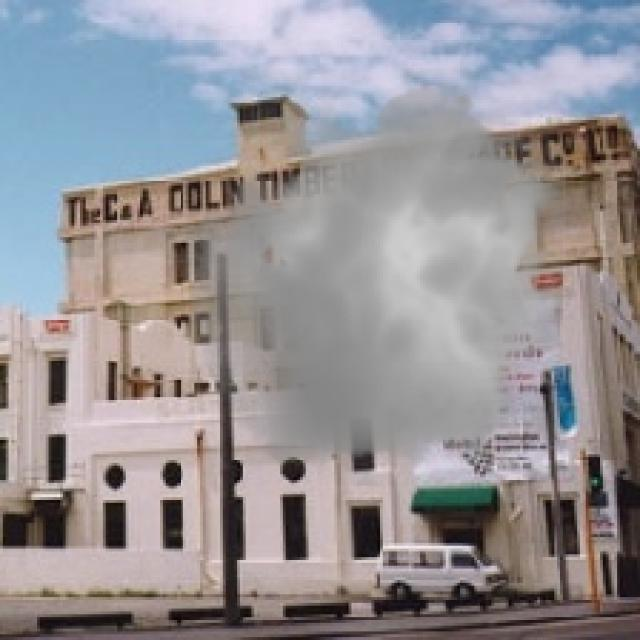Smoke: (174, 68, 583, 486)
